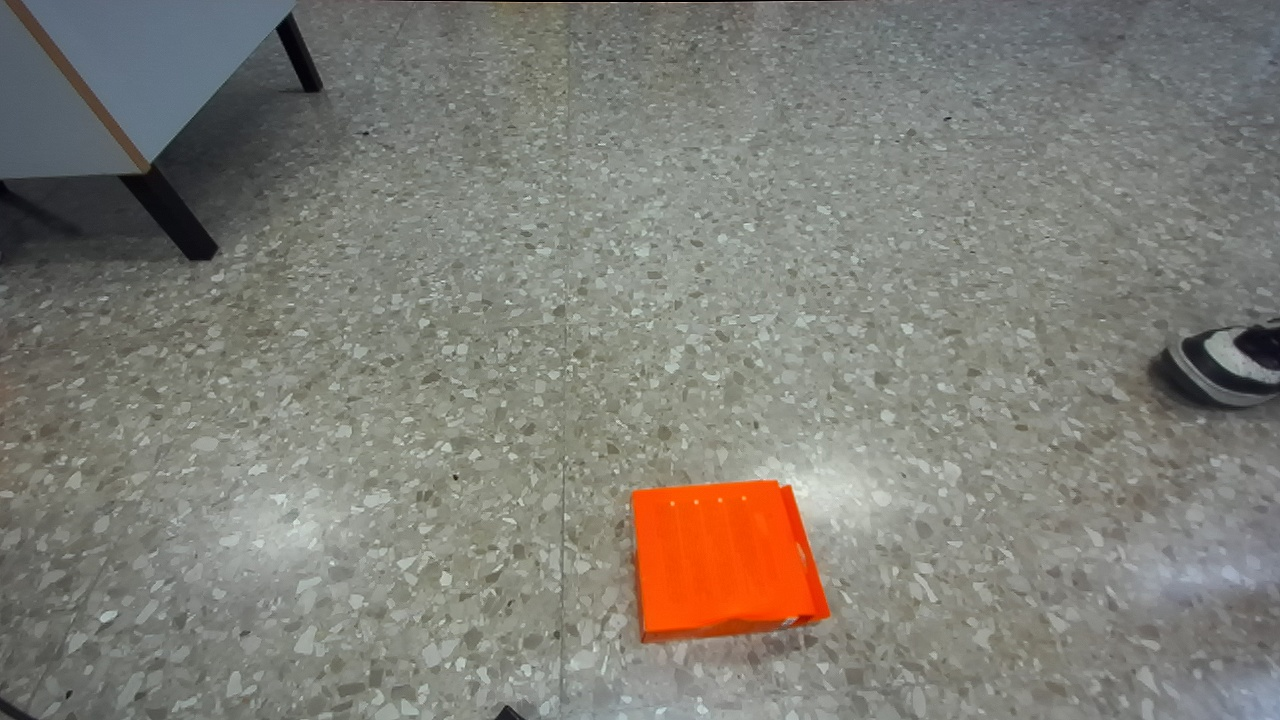caja_manguera: (632, 479, 829, 641)
